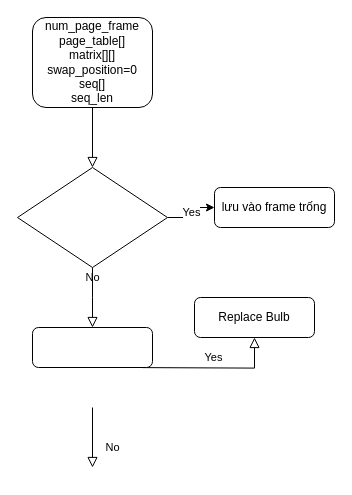
Image size: 352x495. Some labels were removed from this diagram. Here are the shapes that lost their labels. From the top down, the box of each, then its label:
(16, 166, 168, 268): seq[i] vào page_table còn frame trống
(32, 326, 152, 368): swap_position %= 3
